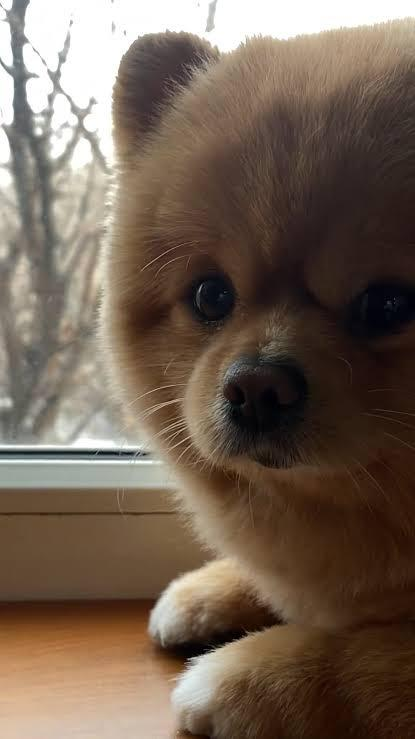adult_dog: (97, 14, 415, 739)
